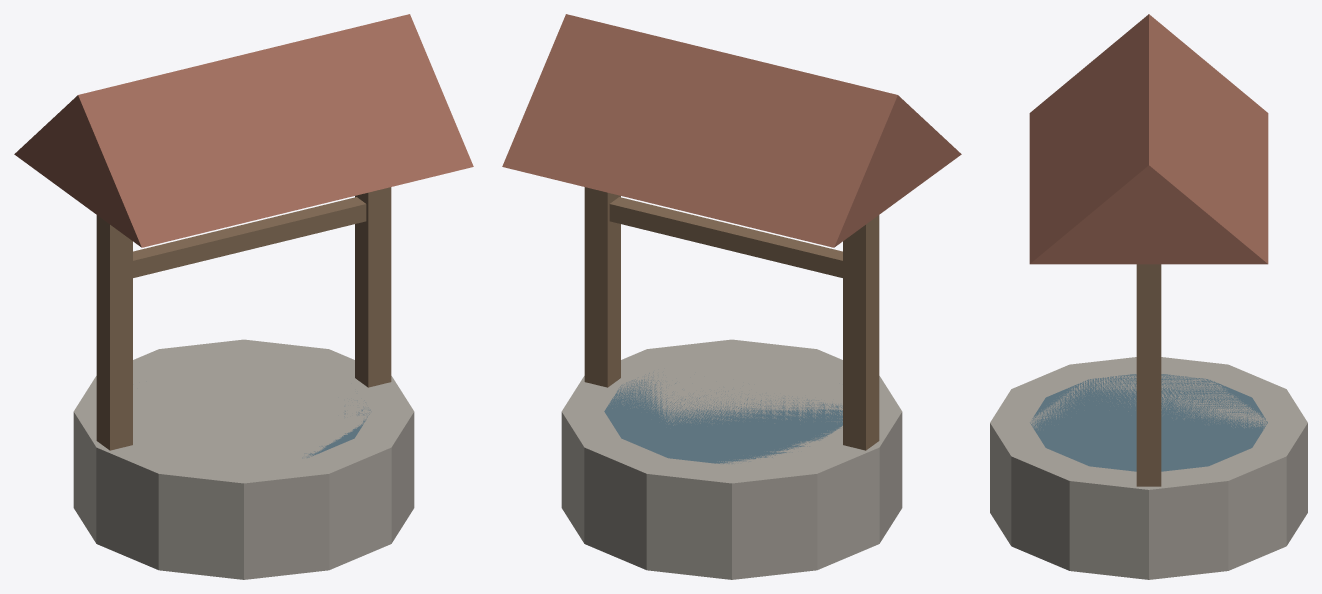
File: m_brunnen.glb
The picture shows the model from 3 angles, left to right: view 1: azimuth 30°, elevation 25°; view 2: azimuth 150°, elevation 25°; view 3: azimuth 270°, elevation 25°; orthographic projection. The views are drawn at different scales.
Parts seen in each view (by area): view 1: koerper; view 2: koerper; view 3: koerper.
Boxes of the visible parts, left/top/right/bottom form: koerper: left=14, top=14, right=473, bottom=579; koerper: left=502, top=14, right=961, bottom=579; koerper: left=990, top=14, right=1307, bottom=579.
Bounding box in the file's own units: 3.6 × 4.7 × 3.2.
